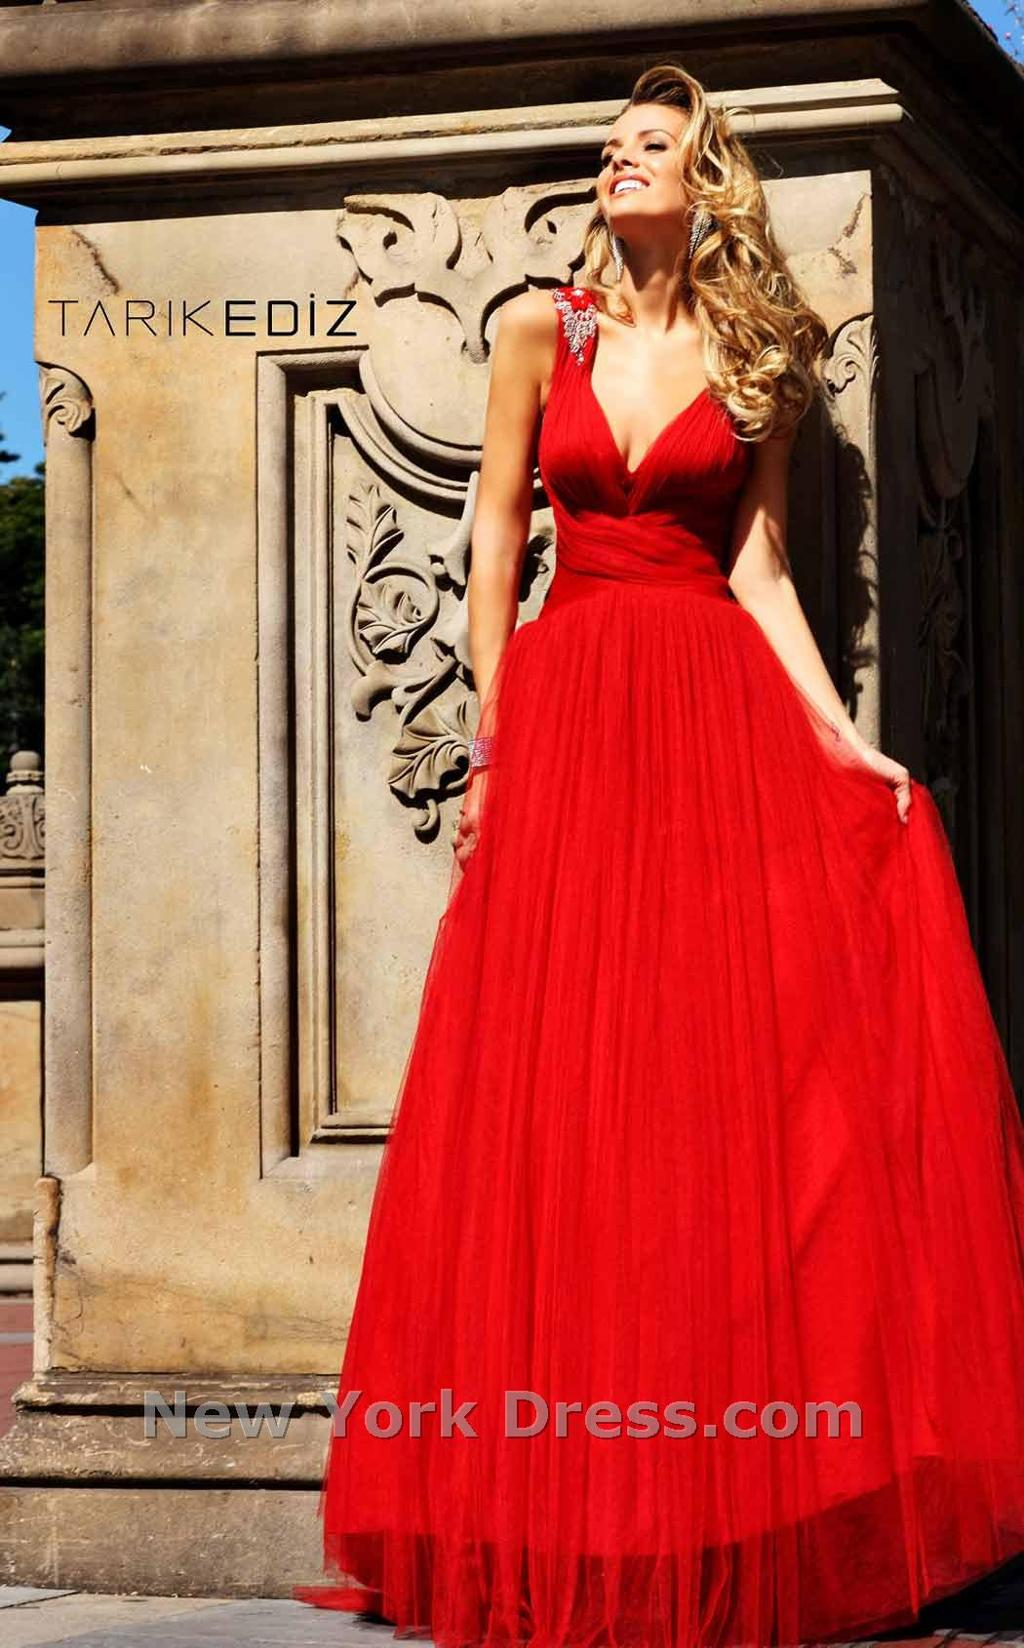face: (596, 100, 699, 219)
